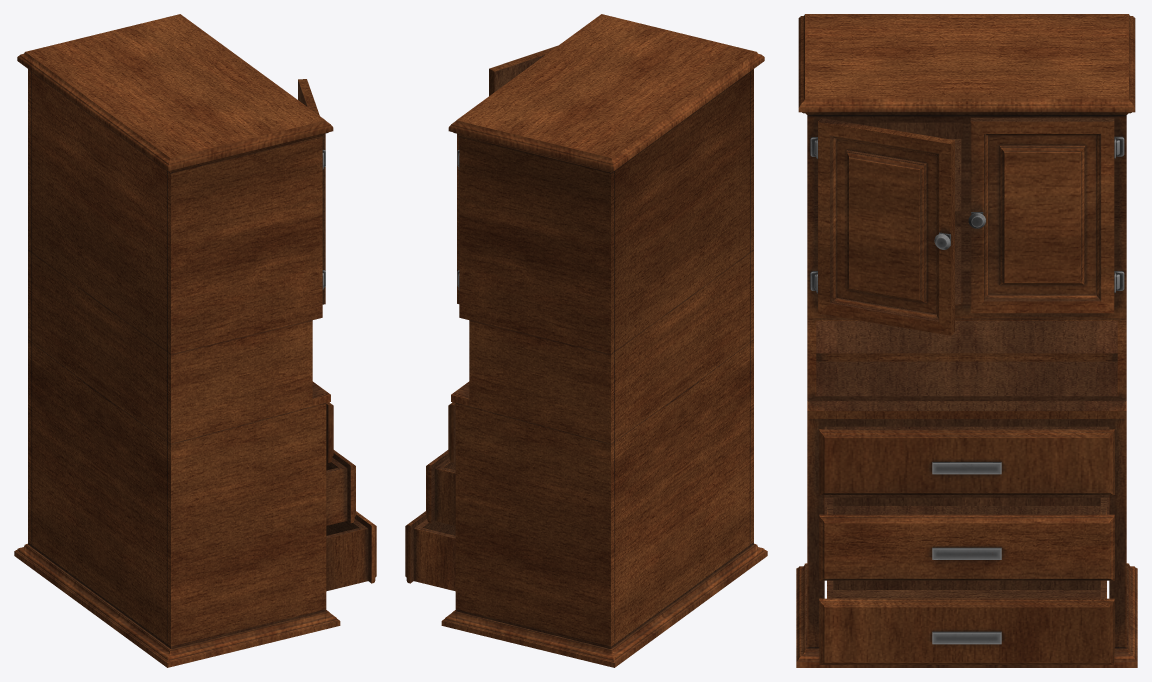
The model's file is cupboard5.glb.
3 views of the same model, side by side, from view 1: azimuth 30°, elevation 25°; view 2: azimuth 150°, elevation 25°; view 3: azimuth 270°, elevation 25° (orthographic). The views are drawn at different scales.
Visible parts, largest first — view 1: Cupboard, Boxes; view 2: Cupboard, Boxes; view 3: Boxes, Cupboard, Furniture.
Boxes of the visible parts, left/top/right/bottom form: Cupboard: left=14, top=14, right=340, bottom=667; Boxes: left=298, top=79, right=376, bottom=591; Cupboard: left=441, top=14, right=767, bottom=667; Boxes: left=405, top=45, right=557, bottom=591; Boxes: left=818, top=117, right=1114, bottom=664; Cupboard: left=796, top=14, right=1137, bottom=667; Furniture: left=810, top=136, right=1124, bottom=644.
Size of the model in its own units: 246 by 523 by 287.
Materials: 3 (3 with a texture image).
